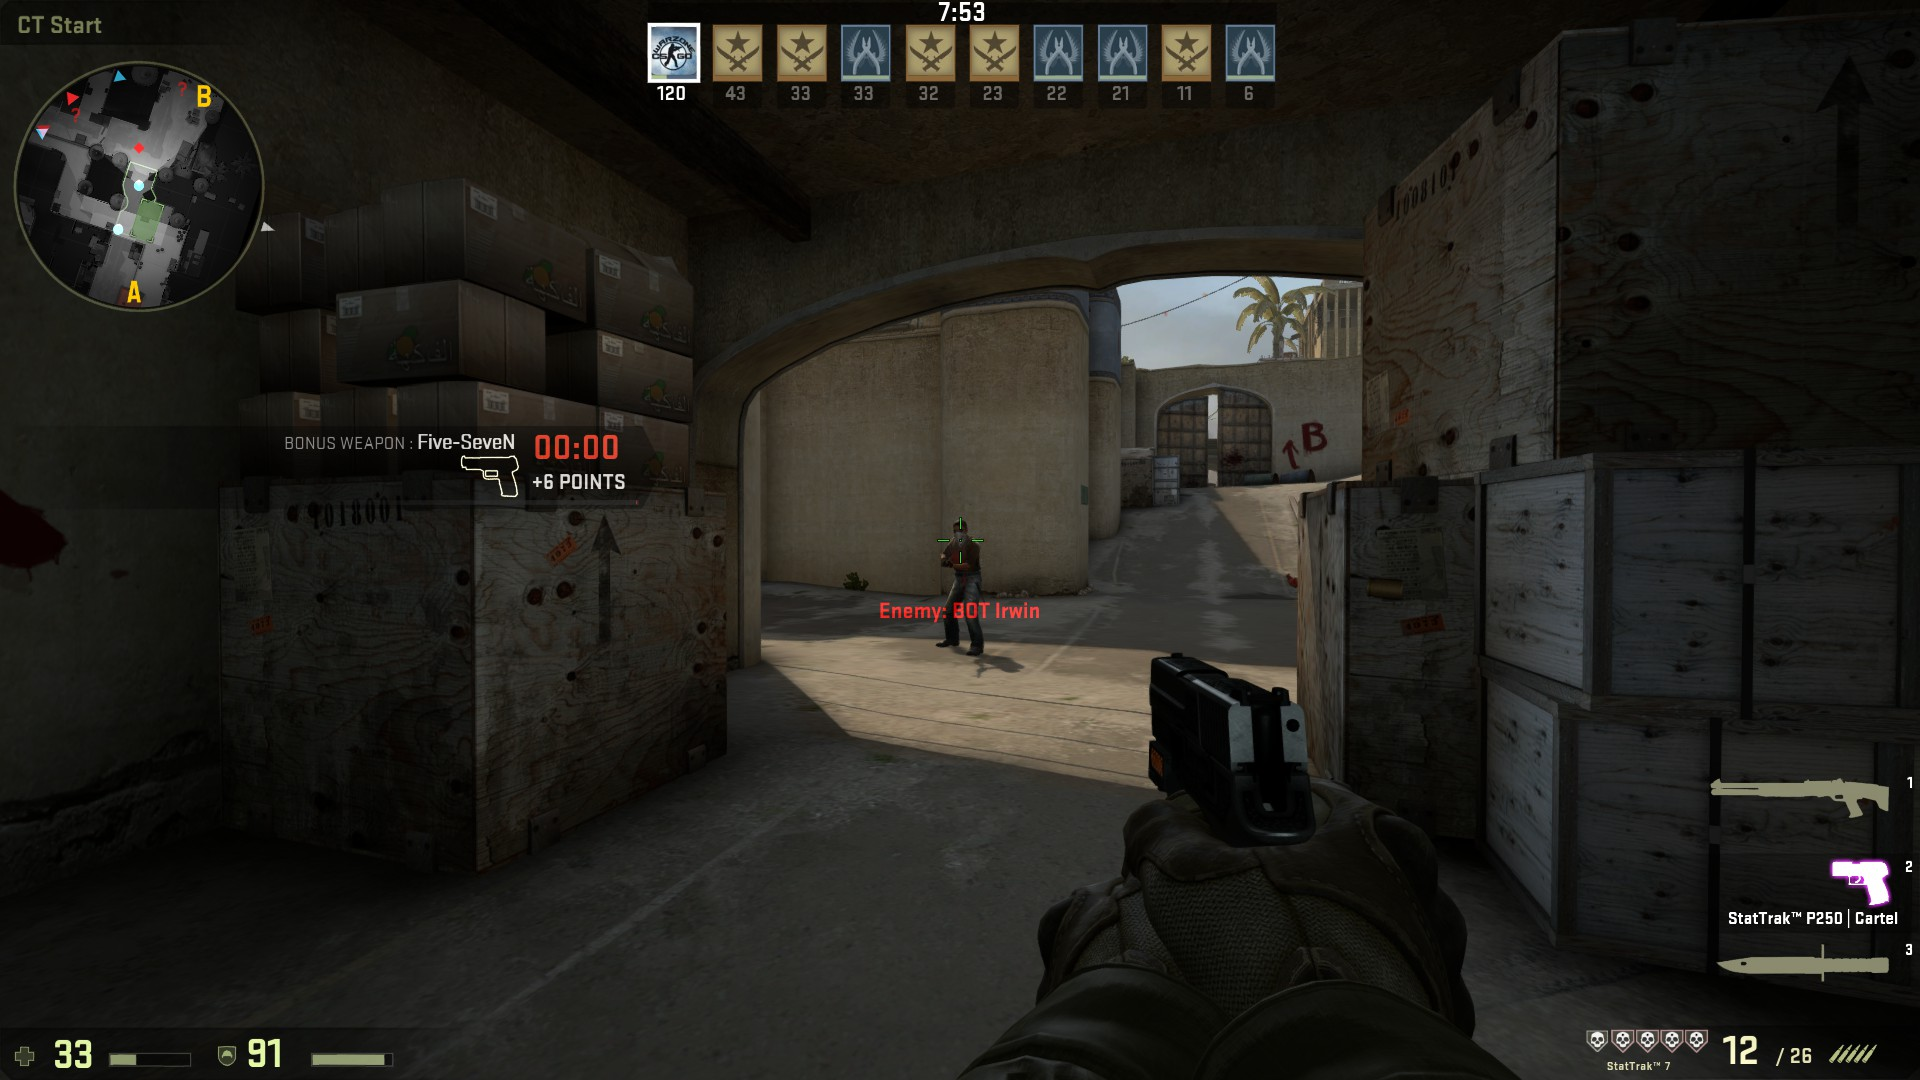t: (935, 520, 986, 655)
th: (948, 520, 976, 549)
